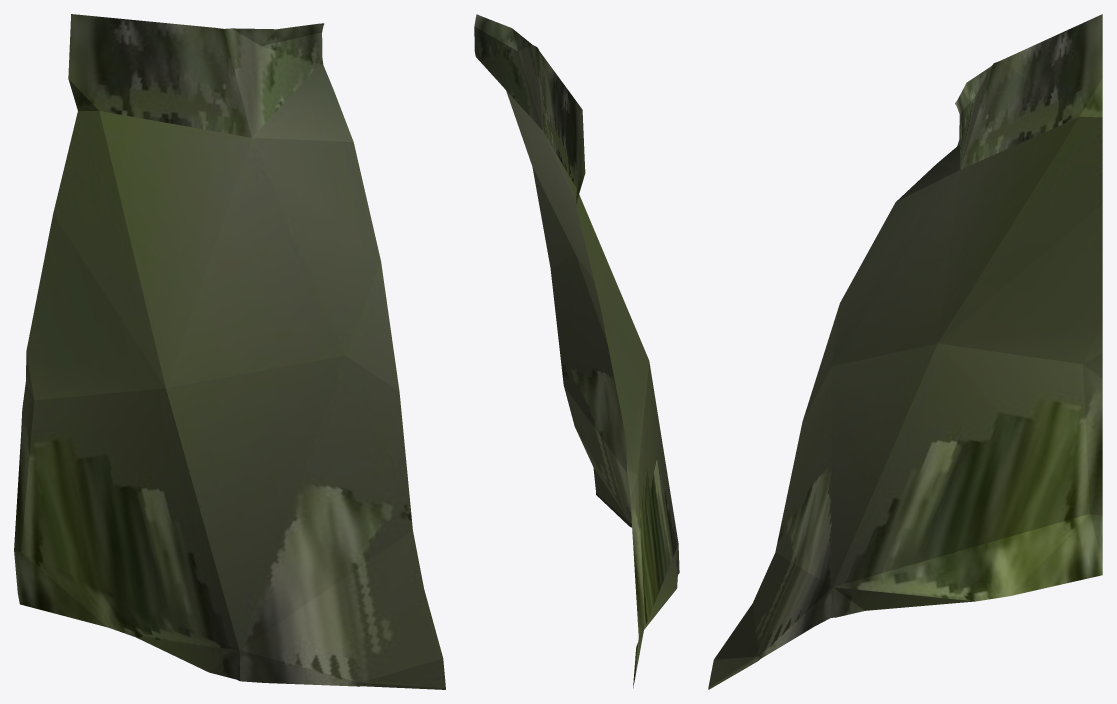
3 views of the same model, side by side, from view 1: azimuth 30°, elevation 25°; view 2: azimuth 150°, elevation 25°; view 3: azimuth 270°, elevation 25° (orthographic). The views are drawn at different scales.
Size of the model in its own units: 1.27 by 2.95 by 1.8.
2 materials, 2 textured.
